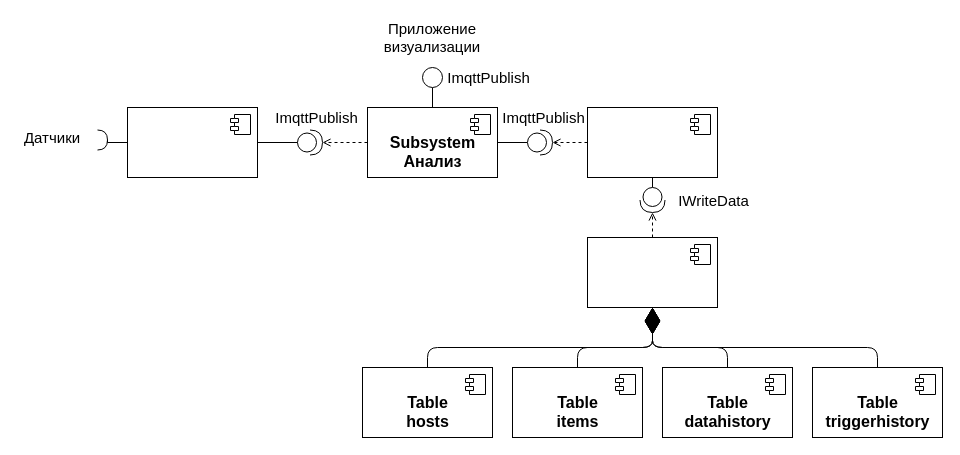
The diagram is 960 pixels wide and 455 high, and some of its shapes have lost their labels. The centre of each missing label's shape, as x and y in pixels:
Component vrdb.db: the point at 652,272
Subsystem Работа с БД: the point at 652,142
Subsystem Сбор данных: the point at 192,142
